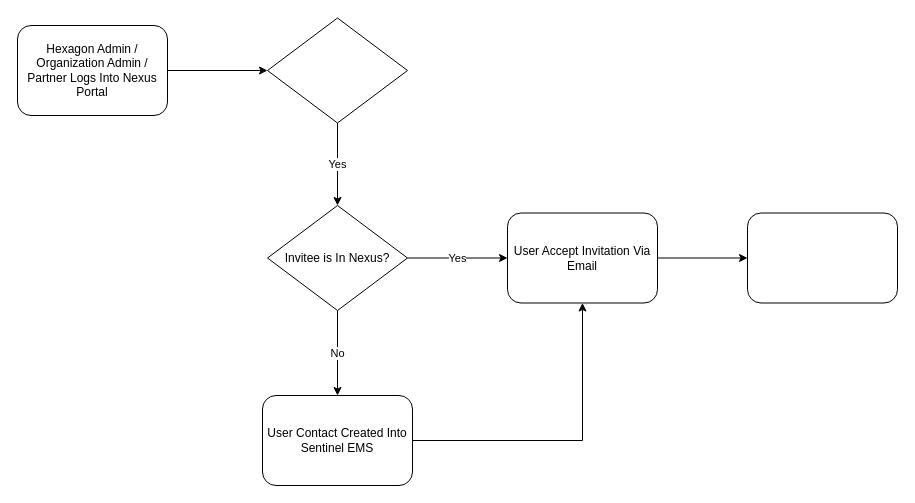
Some shapes in this 915 by 503 pixel diagram are drawn without their labels. Here are the shapes that lost their labels. From the top down, the centre of each, then its label:
At [337,70]: "Invite User?".
At [822,257]: "User Invited Into Organization".
